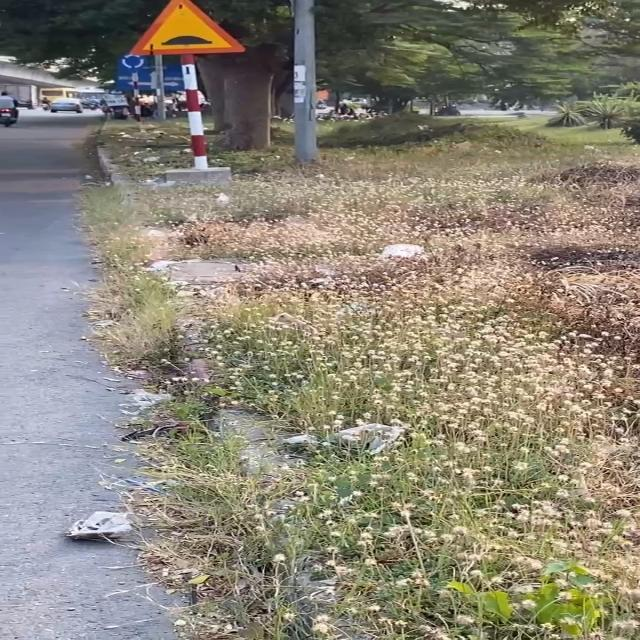221-duong-go-ghe: (130, 0, 245, 56)
303-noi-giao-nhau-chay-theo-vong-xuyen: (118, 53, 146, 71)
